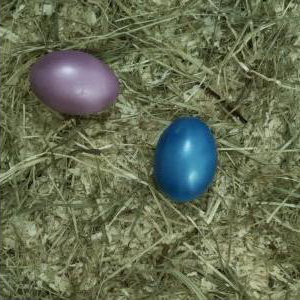egg: (29, 52, 120, 115), (155, 117, 218, 202)
